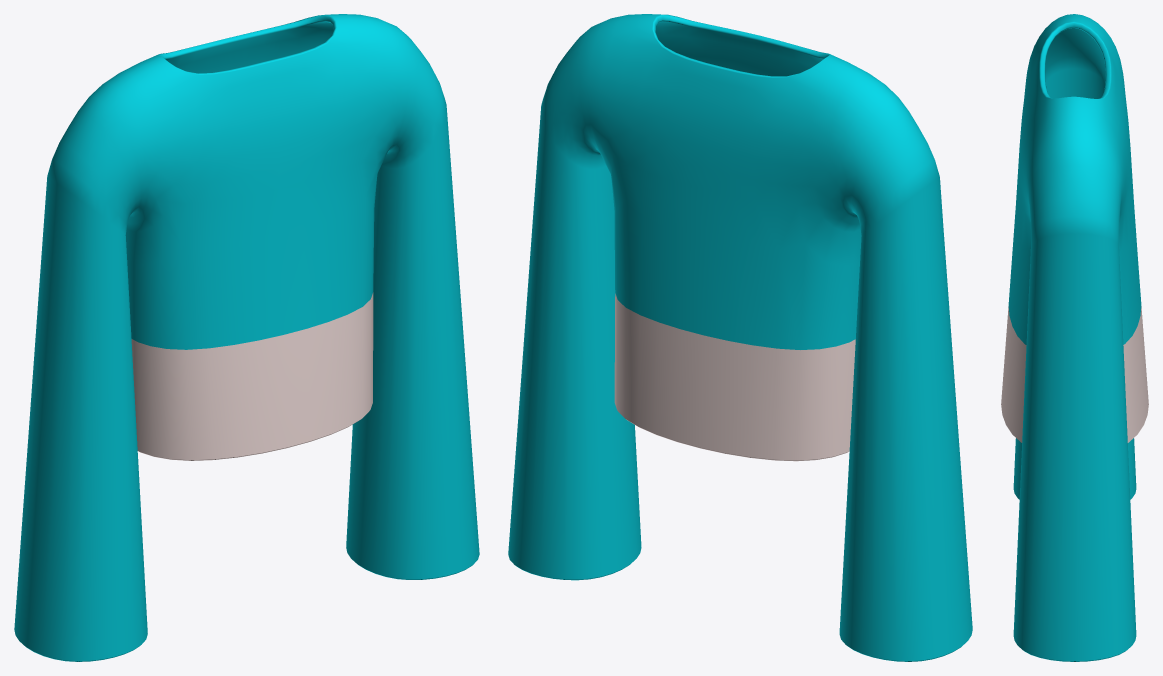
Rendered from Public_13_Sweater_1.glb.
3 renders of one model, left to right at view 1: azimuth 30°, elevation 25°; view 2: azimuth 150°, elevation 25°; view 3: azimuth 270°, elevation 25°, orthographic. The views are drawn at different scales.
Parts seen in each view (by area): view 1: Public_13_Sweater_1; view 2: Public_13_Sweater_1; view 3: Public_13_Sweater_1.
Boxes of the visible parts, x1=… form: Public_13_Sweater_1: x1=14, y1=14, x2=479, y2=661; Public_13_Sweater_1: x1=508, y1=14, x2=972, y2=661; Public_13_Sweater_1: x1=1001, y1=14, x2=1148, y2=661.
Bounding box in the file's own units: 0.8056 × 0.9664 × 0.256.
Materials: 1 (1 with a texture image).
